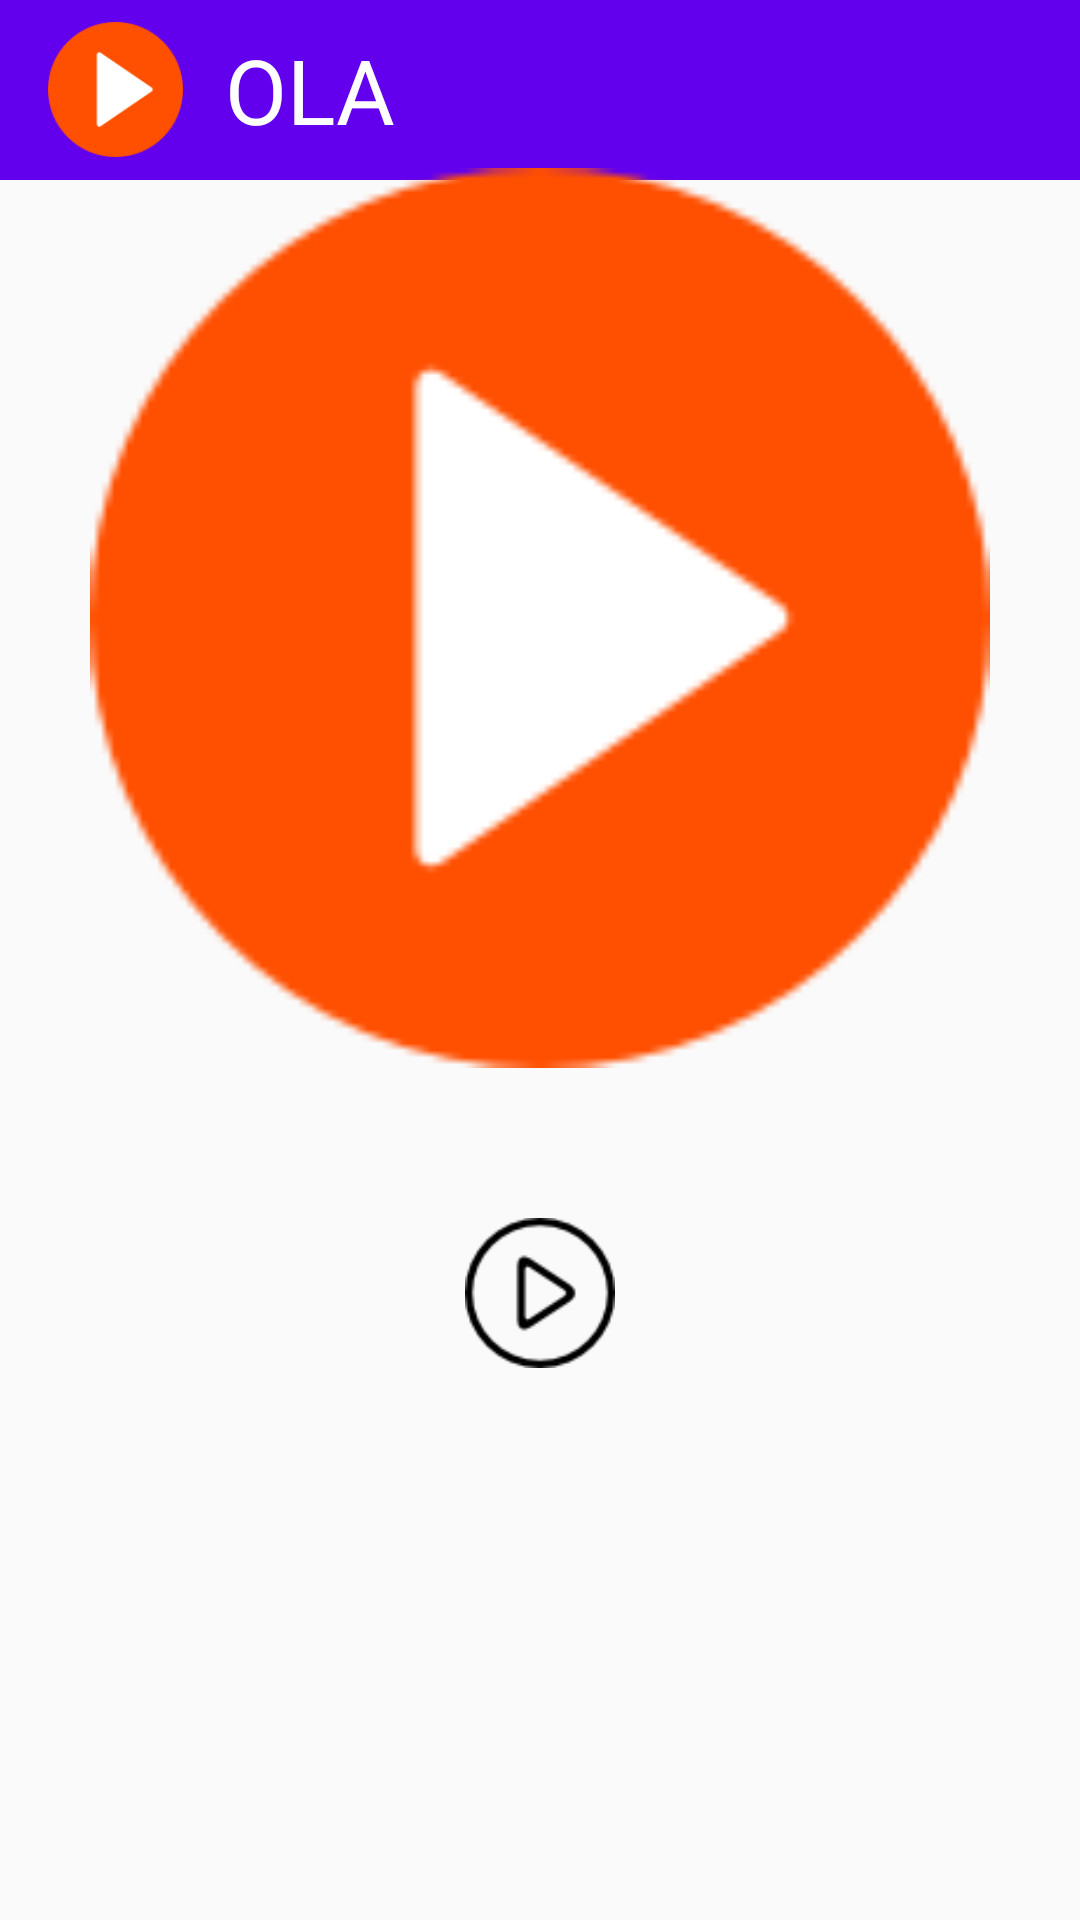

Icon click points for this 1080*1920 phone screenshot, format (x=x, y=y):
playbutton: (x=540, y=1293)
